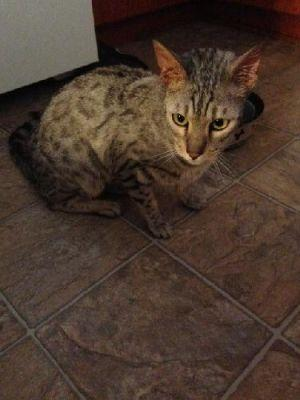bengal: (146, 33, 263, 175)
